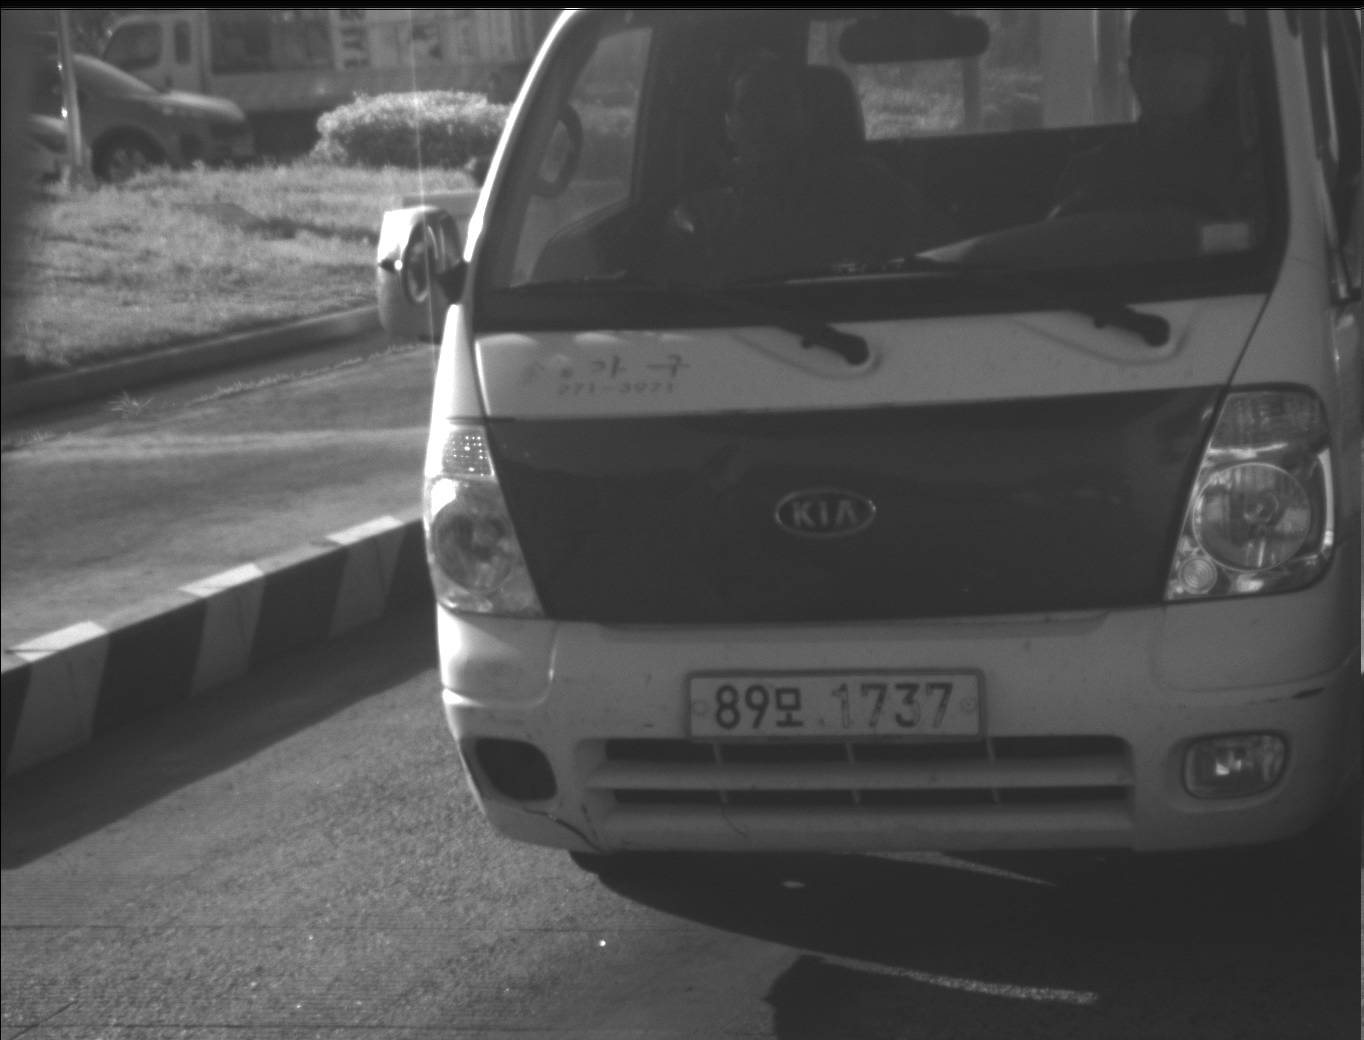car: (358, 6, 1363, 879)
plate: (682, 670, 988, 740)
